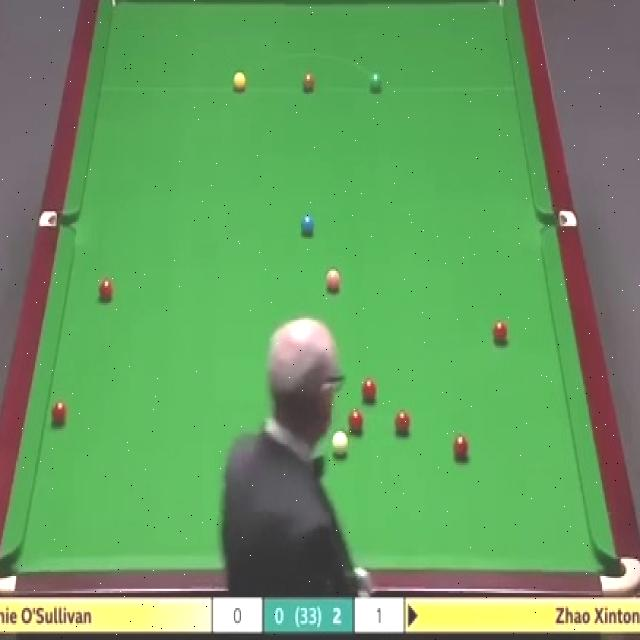blue-ball: (299, 212, 315, 237)
brown-ball: (302, 70, 315, 91)
green-ball: (368, 70, 382, 92)
pink-ball: (326, 266, 342, 292)
red-ball: (491, 321, 510, 347), (360, 379, 379, 403), (453, 437, 471, 461), (96, 279, 114, 303), (395, 410, 412, 432), (348, 411, 364, 434), (50, 403, 66, 425)
white-ball: (329, 430, 348, 457)
yellow-ball: (234, 70, 246, 92)
